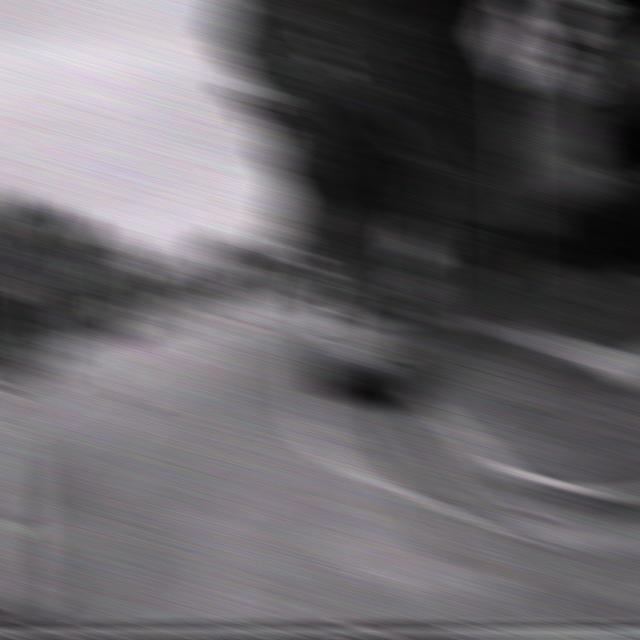pedestrianCrossing: (188, 250, 220, 280)
